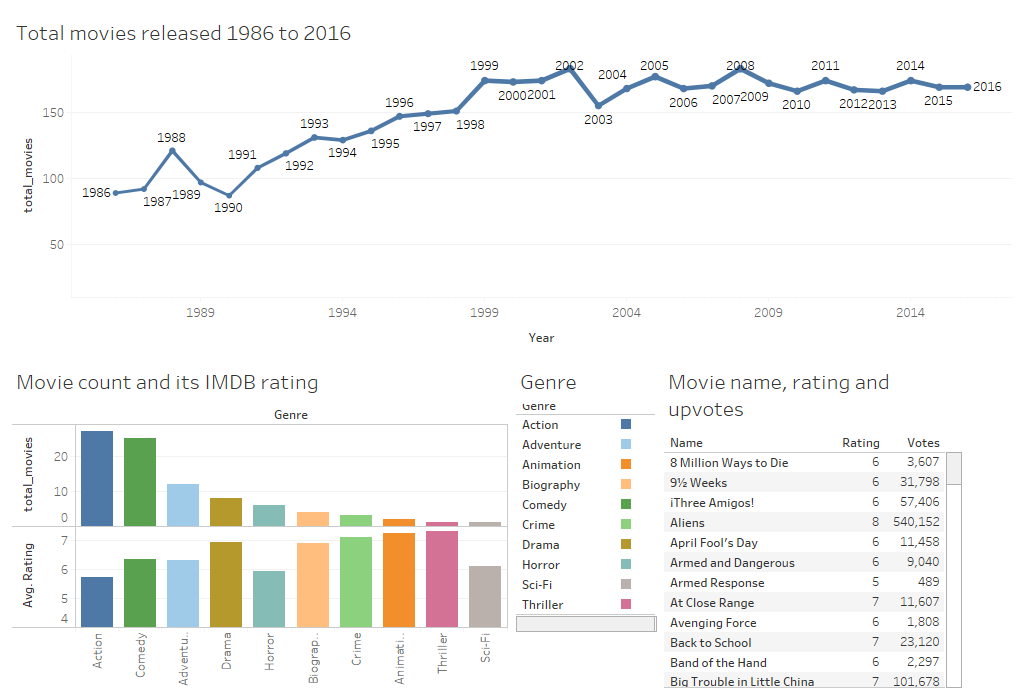

This screenshot's page, from the dashboard's own definition file:
{"tool":"tableau","page":{"name":"Dashboard 1","canvas":[1024,700],"ordinal":0},"visuals":[{"type":"worksheet","title":"total_movies","mark":"Automatic","rows":["Calculation_639511184486076417"],"cols":["year"],"box":[8,8,1008,348.9]},{"type":"worksheet","title":"rating","mark":"Automatic","rows":["Calculation_639511184486076417","score"],"cols":["genre"],"box":[8,357,504,335]},{"type":"worksheet","title":"Genre","mark":"Square","rows":["genre"],"box":[512,357,148.5,335]},{"type":"worksheet","title":"list","mark":"Text","rows":["name"],"box":[660.5,357,355.5,335]}]}

Visuals, with their boxes in screenshot pixels (x1, y1, x2, y2), scaled from the page's 1024x700 canvas onto the 1024x700 screenshot:
"total_movies" worksheet: {"x1": 8, "y1": 8, "x2": 1016, "y2": 357}
"rating" worksheet: {"x1": 8, "y1": 357, "x2": 512, "y2": 692}
"Genre" worksheet (Square marks): {"x1": 512, "y1": 357, "x2": 660, "y2": 692}
"list" worksheet (Text marks): {"x1": 660, "y1": 357, "x2": 1016, "y2": 692}
